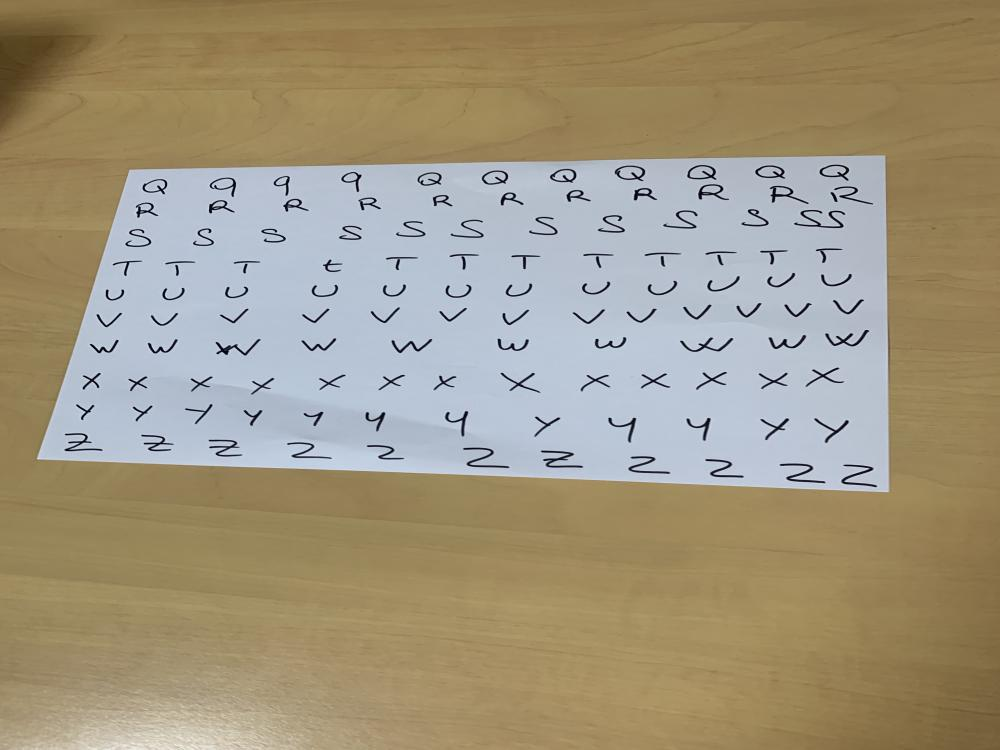9: (738, 207, 771, 229), (210, 176, 238, 197), (341, 171, 362, 192), (273, 175, 290, 196)
Q: (814, 163, 854, 183), (616, 163, 648, 185), (684, 164, 722, 182), (750, 164, 790, 180), (414, 169, 446, 188), (547, 167, 581, 184), (140, 178, 172, 196), (480, 170, 510, 186)
R: (831, 182, 872, 207), (766, 185, 809, 207), (696, 182, 734, 202), (132, 200, 163, 222), (282, 196, 313, 216), (205, 198, 239, 216), (497, 190, 528, 209), (428, 194, 458, 210), (356, 196, 384, 212), (631, 188, 660, 203), (566, 189, 591, 204)
S: (660, 209, 700, 231), (529, 215, 564, 239), (595, 213, 629, 236), (794, 206, 824, 230), (452, 219, 485, 240), (394, 219, 425, 240), (254, 226, 288, 244), (124, 228, 153, 249), (335, 223, 366, 242), (191, 227, 218, 248), (828, 210, 850, 232)
T: (645, 250, 688, 268), (382, 255, 419, 272), (580, 253, 615, 270), (704, 250, 738, 267), (812, 246, 844, 264), (161, 260, 197, 276), (230, 258, 262, 275), (113, 259, 143, 277), (451, 253, 482, 270), (760, 248, 790, 265), (509, 253, 542, 268), (319, 259, 345, 274)
U: (646, 278, 682, 298), (705, 276, 741, 294), (818, 272, 857, 288), (505, 282, 536, 300), (577, 281, 615, 295), (221, 284, 252, 301), (764, 273, 798, 288), (442, 284, 475, 299), (310, 284, 340, 300), (382, 282, 410, 298), (162, 286, 188, 303), (102, 286, 128, 302)
V: (498, 308, 540, 328), (829, 296, 866, 318), (296, 308, 336, 327), (570, 308, 610, 326), (366, 306, 404, 324), (91, 312, 128, 329), (732, 300, 766, 318), (148, 311, 181, 329), (434, 306, 471, 322), (624, 308, 660, 324), (220, 308, 252, 326), (782, 300, 813, 318), (682, 305, 715, 321)
W: (678, 334, 734, 354), (212, 338, 266, 358), (824, 329, 873, 348), (389, 338, 435, 354), (146, 338, 185, 356), (764, 335, 808, 350), (85, 340, 126, 356), (298, 336, 338, 352), (494, 336, 532, 352), (594, 335, 629, 352)
X: (496, 369, 544, 397), (806, 364, 845, 388), (750, 370, 792, 391), (575, 372, 613, 394), (636, 372, 674, 392), (694, 370, 728, 390), (375, 372, 406, 391), (186, 374, 216, 393), (78, 372, 106, 392), (125, 374, 153, 394), (316, 374, 347, 392), (245, 376, 276, 394), (432, 373, 459, 391)
Y: (811, 414, 853, 446), (602, 413, 641, 444), (756, 415, 792, 444), (441, 410, 476, 439), (684, 414, 715, 442), (362, 409, 388, 434), (184, 406, 219, 424), (532, 415, 560, 436), (129, 404, 158, 424), (302, 410, 326, 431), (72, 402, 98, 421), (242, 407, 264, 428)
Z: (461, 445, 511, 471), (778, 461, 826, 486), (536, 449, 586, 472), (285, 442, 335, 462), (60, 431, 102, 454), (704, 458, 746, 481), (625, 454, 668, 476), (204, 438, 246, 459), (842, 463, 876, 488), (138, 433, 174, 454), (366, 444, 408, 461)
